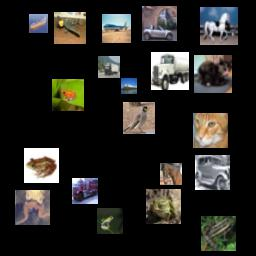airplane: (54, 12, 86, 44), (102, 14, 131, 43)
automobile: (142, 6, 177, 41), (195, 155, 230, 190)
bird: (123, 102, 155, 134)
cat: (194, 55, 232, 93), (193, 113, 228, 148)
frog: (15, 190, 50, 225), (201, 216, 236, 251), (24, 148, 59, 183), (146, 189, 181, 224), (52, 79, 84, 111), (97, 208, 123, 234)
ship: (29, 14, 48, 33), (121, 78, 137, 94)
truck: (151, 52, 189, 90), (72, 178, 98, 204), (98, 56, 120, 78)
